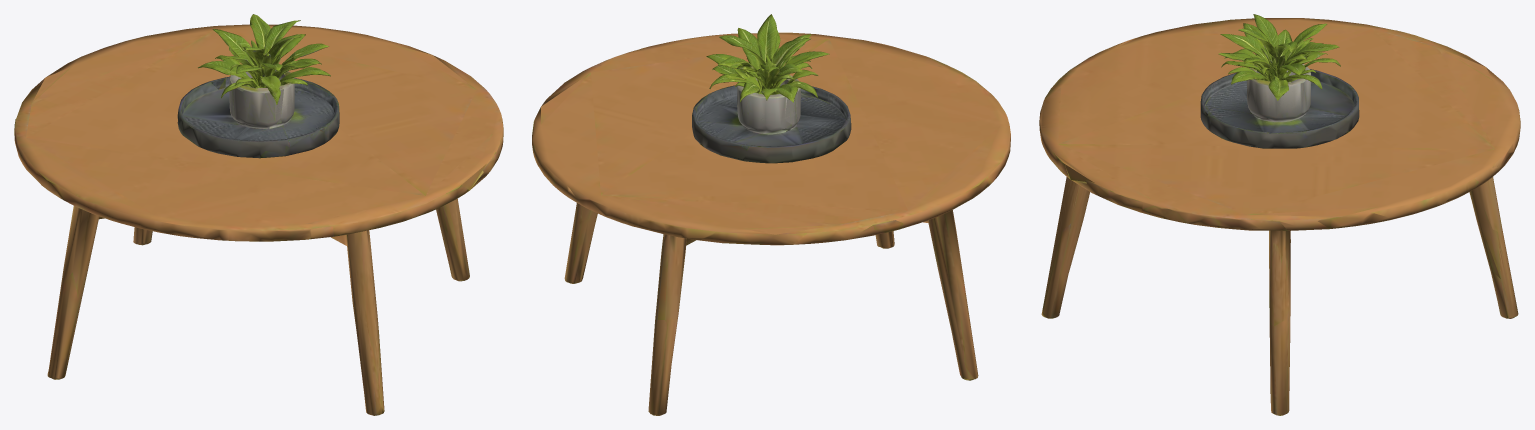
File: coffee-table.glb
The picture shows the model from 3 angles, left to right: view 1: azimuth 30°, elevation 25°; view 2: azimuth 150°, elevation 25°; view 3: azimuth 270°, elevation 25°; orthographic projection. The views are drawn at different scales.
Parts seen in each view (by area): view 1: output_unwrapped; view 2: output_unwrapped; view 3: output_unwrapped.
Boxes of the visible parts, x1=… form: output_unwrapped: x1=14, y1=14, x2=503, y2=415; output_unwrapped: x1=532, y1=14, x2=1010, y2=415; output_unwrapped: x1=1039, y1=14, x2=1520, y2=415.
Bounding box in the file's own units: 0.8809 × 0.6 × 0.8811.
1 material, 1 textured.
